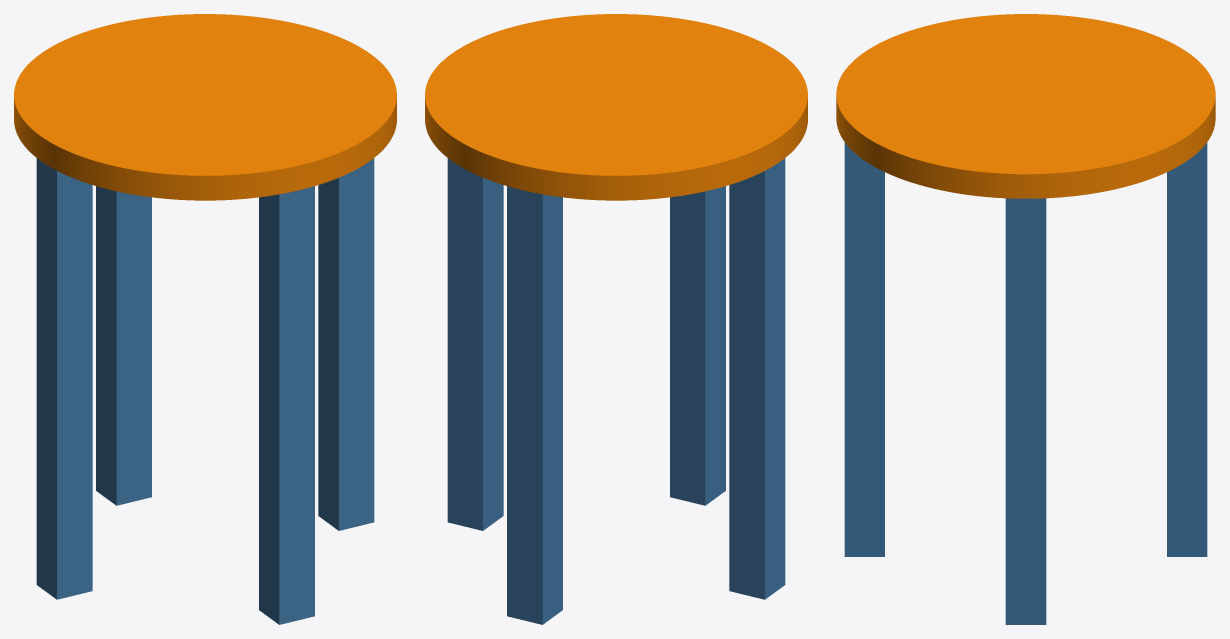
Rendered from parametrik_tabure.gltf.
3 views of the same model, side by side, from view 1: azimuth 30°, elevation 25°; view 2: azimuth 150°, elevation 25°; view 3: azimuth 270°, elevation 25° (orthographic).
Parts seen in each view (by area): view 1: TabureUstu_part, Ayak_3_part, Ayak_4_part, Ayak_1_part, Ayak_2_part; view 2: TabureUstu_part, Ayak_3_part, Ayak_2_part, Ayak_1_part, Ayak_4_part; view 3: TabureUstu_part, Ayak_1_part, Ayak_2_part, Ayak_4_part.
Part boxes in pixels (x1,y1,x2,y2): TabureUstu_part: (14, 14, 396, 200); Ayak_3_part: (36, 158, 92, 599); Ayak_4_part: (259, 186, 314, 624); Ayak_1_part: (318, 158, 374, 530); Ayak_2_part: (96, 186, 151, 505); TabureUstu_part: (425, 14, 807, 200); Ayak_3_part: (729, 158, 785, 599); Ayak_2_part: (507, 186, 562, 624); Ayak_1_part: (447, 158, 503, 530); Ayak_4_part: (670, 186, 725, 505); TabureUstu_part: (836, 14, 1215, 198); Ayak_1_part: (1005, 198, 1046, 624); Ayak_2_part: (1167, 142, 1207, 556); Ayak_4_part: (844, 142, 884, 556).
Bounding box in the file's own units: 280 × 370 × 280.
